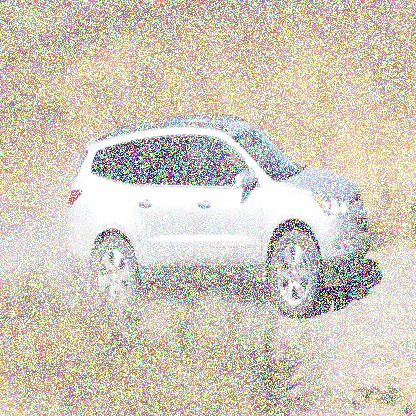Vehicle: (62, 106, 372, 319)
